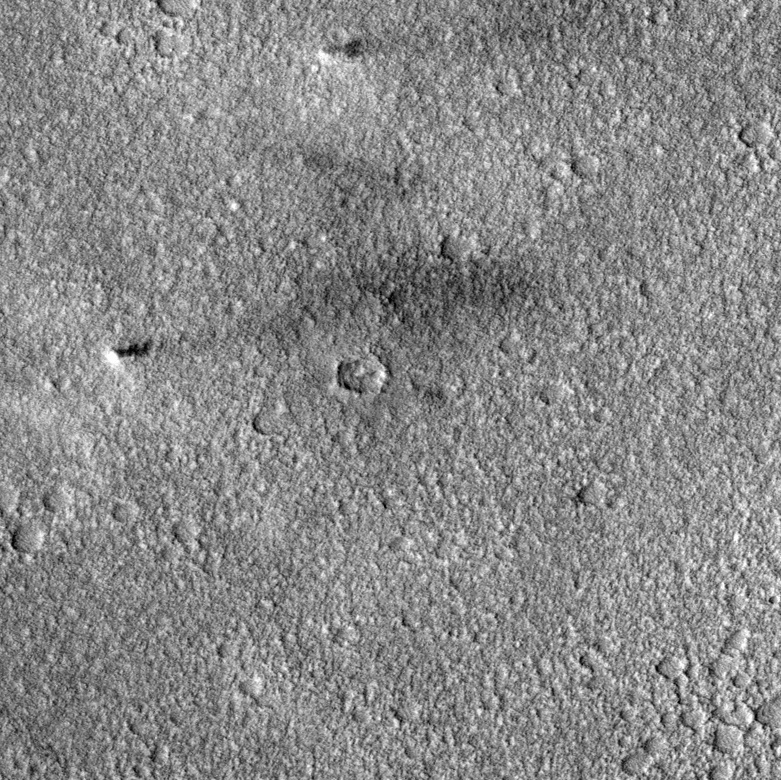dust_devil: (315, 35, 368, 68), (103, 337, 153, 368)
